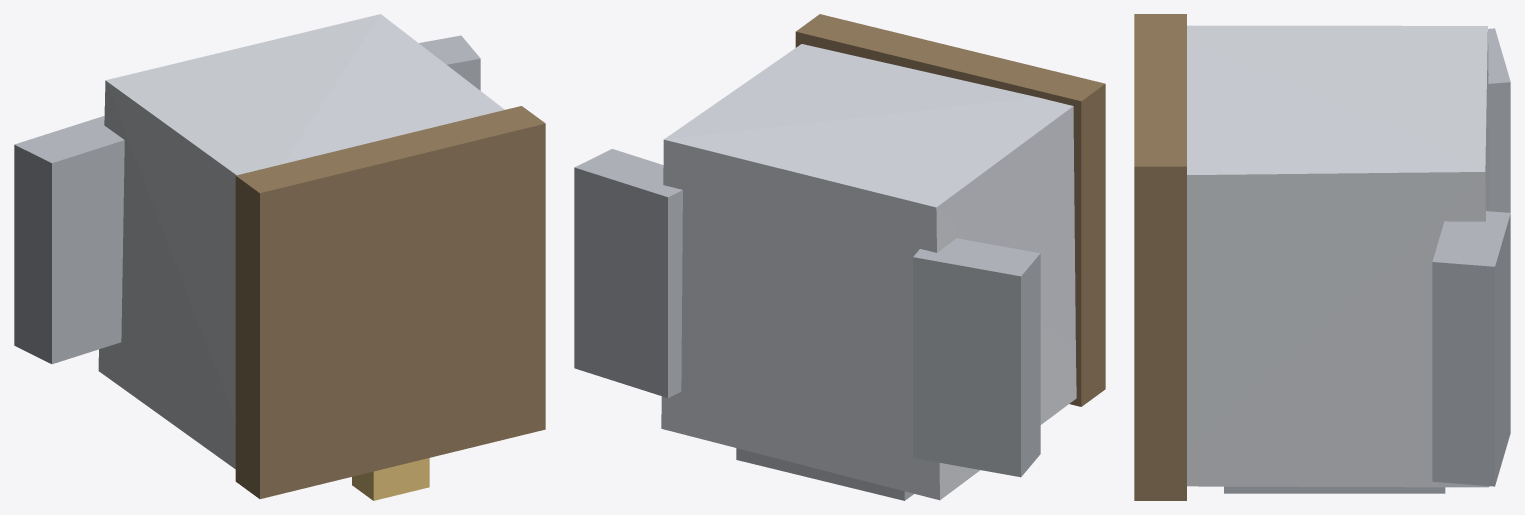
Rendered from ChestColossus.fbx.
3 views of the same model, side by side, from view 1: azimuth 30°, elevation 25°; view 2: azimuth 150°, elevation 25°; view 3: azimuth 270°, elevation 25° (orthographic). The views are drawn at different scales.
Visible parts, largest first — view 1: fam_leather_dark, fam_steel, fam_steel_dark, fam_gold; view 2: fam_steel, fam_steel_dark, fam_leather_dark; view 3: fam_steel, fam_leather_dark, fam_steel_dark.
Boxes of the visible parts, x1,y1,x2,y2 form: fam_leather_dark: [235, 106, 545, 498]; fam_steel: [98, 14, 504, 468]; fam_steel_dark: [14, 35, 480, 364]; fam_gold: [352, 458, 429, 500]; fam_steel: [661, 44, 1076, 500]; fam_steel_dark: [574, 149, 1040, 500]; fam_leather_dark: [795, 14, 1105, 406]; fam_steel: [1187, 25, 1489, 487]; fam_leather_dark: [1134, 14, 1186, 500]; fam_steel_dark: [1224, 28, 1510, 493].
Bounding box in the file's own units: 5.68 × 4.08 × 3.79.
